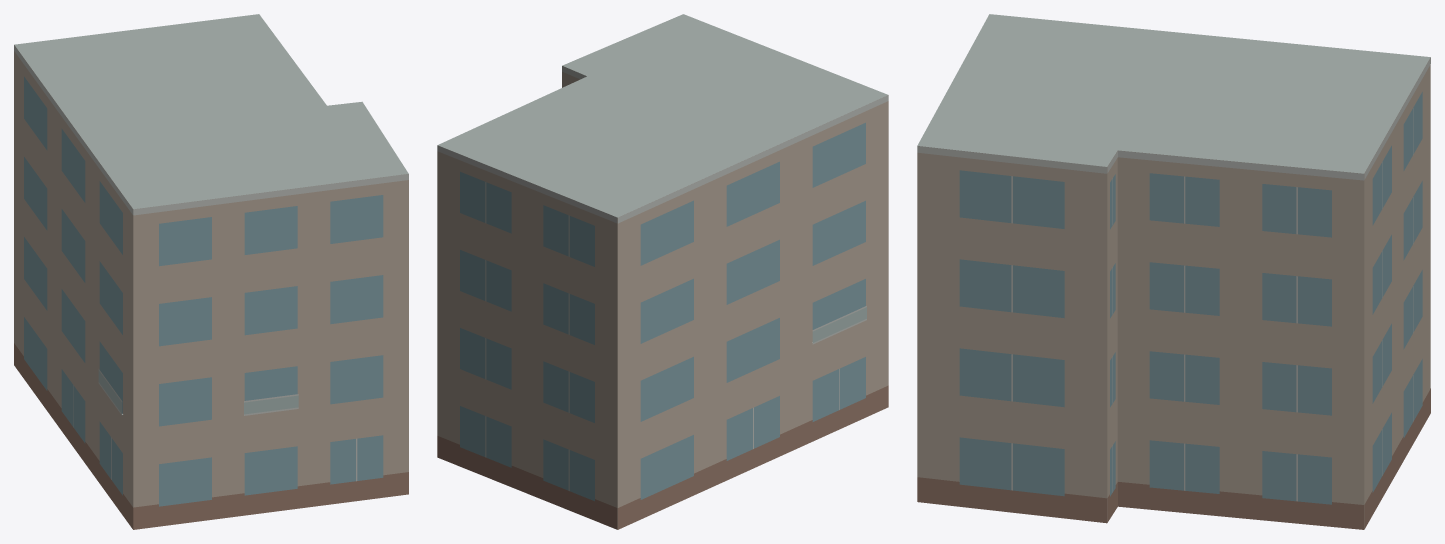
Rendered from survey-upis-32589023.glb.
The picture shows the model from 3 angles, left to right: view 1: azimuth 30°, elevation 25°; view 2: azimuth 150°, elevation 25°; view 3: azimuth 270°, elevation 25°; orthographic projection. The views are drawn at different scales.
Parts seen in each view (by area): view 1: survey-upis-32589023.tmp; view 2: survey-upis-32589023.tmp; view 3: survey-upis-32589023.tmp.
Part boxes in pixels (<box>): survey-upis-32589023.tmp: <box>14,14,408,529</box>; survey-upis-32589023.tmp: <box>437,14,888,529</box>; survey-upis-32589023.tmp: <box>917,14,1430,529</box>.
Bounding box in the file's own units: 12.22 × 12.7 × 16.6.
